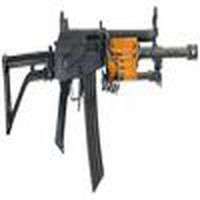gun: (1, 13, 200, 137)
